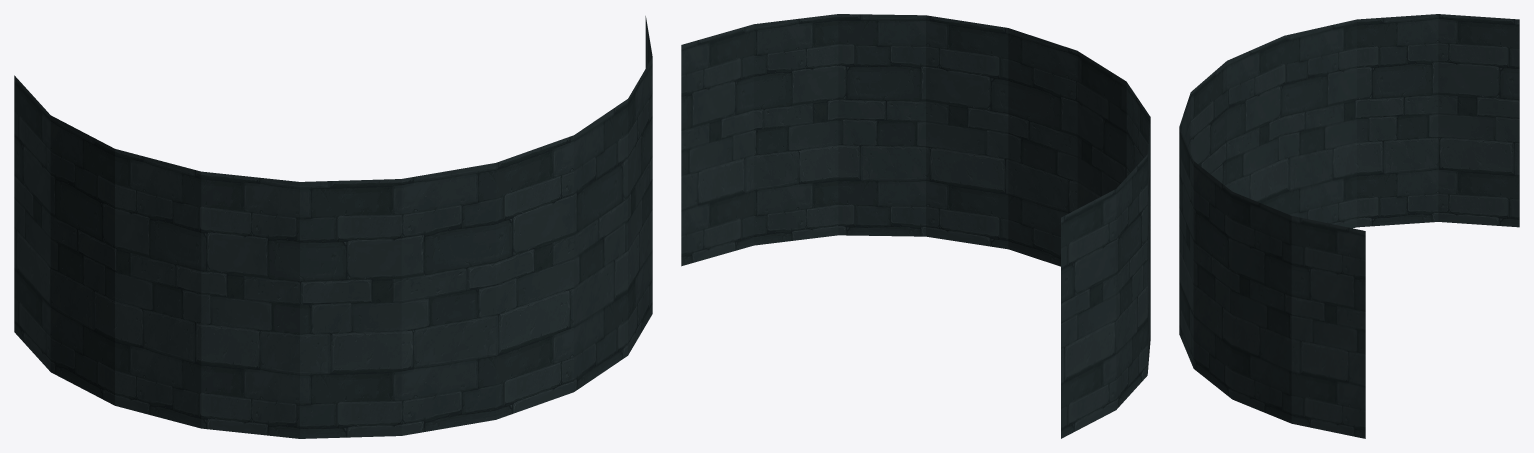
Rendered from cs_zhucheng_chuansongfb_002.FBX.
3 renders of one model, left to right at view 1: azimuth 30°, elevation 25°; view 2: azimuth 150°, elevation 25°; view 3: azimuth 270°, elevation 25°, orthographic. The views are drawn at different scales.
Parts seen in each view (by area): view 1: cs_zhucheng_chuansongfb_002; view 2: cs_zhucheng_chuansongfb_002; view 3: cs_zhucheng_chuansongfb_002.
Part boxes in pixels (<box>): cs_zhucheng_chuansongfb_002: <box>14,16,652,438</box>; cs_zhucheng_chuansongfb_002: <box>681,14,1150,438</box>; cs_zhucheng_chuansongfb_002: <box>1179,14,1519,438</box>.
Bounding box in the file's own units: 332 × 220 × 148.
